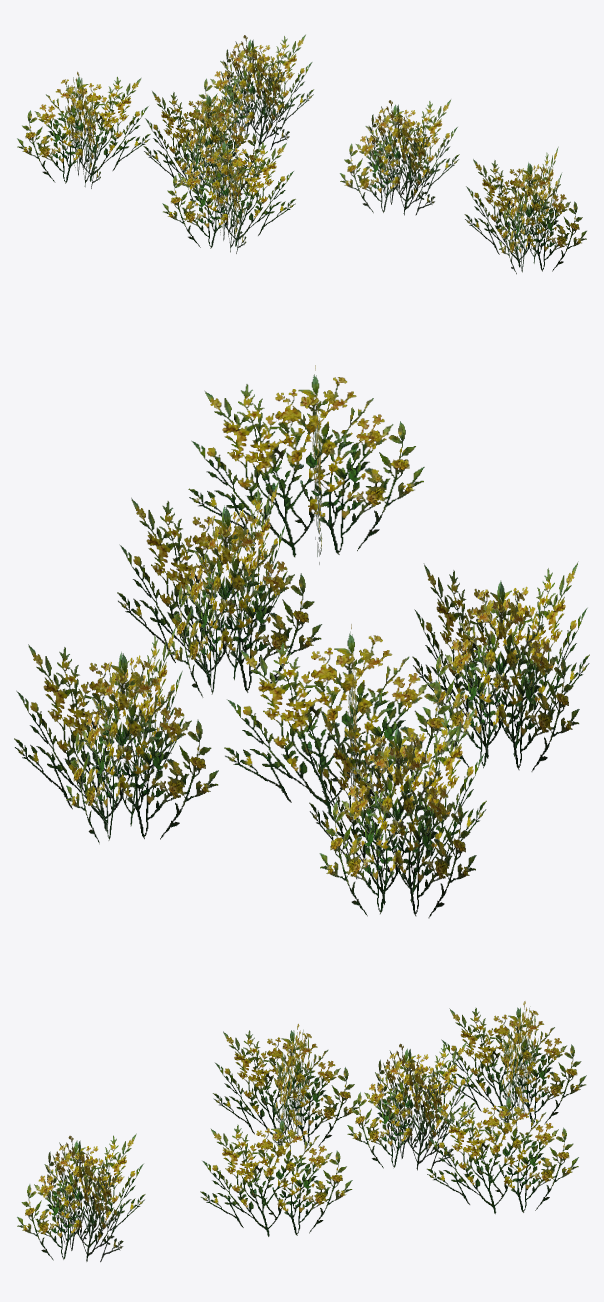
The model's file is Strauch_01.obj.
3 views of the same model, one above another, from view 1: azimuth 30°, elevation 25°; view 2: azimuth 150°, elevation 25°; view 3: azimuth 270°, elevation 25° (orthographic). The views are drawn at different scales.
Visible parts, largest first — view 1: Mesh5 Group7 Group2 Group1 Model, Mesh4 Group6 Group2 Group1 Model, Mesh11 Group13 Group1 Model, Mesh1 Group3 Group2 Group1 Model, Mesh3 Group5 Group2 Group1 Model, Mesh9 Group11 Group2 Group1 Model, Mesh7 Group9 Group2 Group1 Model, Mesh6 Group8 Group2 Group1 Model, Mesh12 Group14 Group1 Model, Mesh8 Group10 Group2 Group1 Model, Mesh10 Group12 Group2 Group1 Model, Mesh2 Group4 Group2 Group1 Model; view 2: Mesh12 Group14 Group1 Model, Mesh8 Group10 Group2 Group1 Model, Mesh3 Group5 Group2 Group1 Model, Mesh1 Group3 Group2 Group1 Model, Mesh5 Group7 Group2 Group1 Model, Mesh4 Group6 Group2 Group1 Model, Mesh10 Group12 Group2 Group1 Model, Mesh2 Group4 Group2 Group1 Model, Mesh6 Group8 Group2 Group1 Model, Mesh7 Group9 Group2 Group1 Model; view 3: Mesh6 Group8 Group2 Group1 Model, Mesh7 Group9 Group2 Group1 Model, Mesh2 Group4 Group2 Group1 Model, Mesh10 Group12 Group2 Group1 Model, Mesh11 Group13 Group1 Model, Mesh9 Group11 Group2 Group1 Model, Mesh12 Group14 Group1 Model, Mesh8 Group10 Group2 Group1 Model, Mesh4 Group6 Group2 Group1 Model, Mesh5 Group7 Group2 Group1 Model.
Part boxes in pixels (box(x1,y1,x2,y2)): Mesh5 Group7 Group2 Group1 Model: box(17, 76, 150, 183); Mesh4 Group6 Group2 Group1 Model: box(162, 141, 295, 248); Mesh11 Group13 Group1 Model: box(464, 159, 586, 271); Mesh1 Group3 Group2 Group1 Model: box(339, 99, 459, 213); Mesh3 Group5 Group2 Group1 Model: box(194, 34, 314, 148); Mesh9 Group11 Group2 Group1 Model: box(143, 91, 266, 202); Mesh7 Group9 Group2 Group1 Model: box(366, 100, 435, 215); Mesh6 Group8 Group2 Group1 Model: box(221, 35, 289, 150); Mesh12 Group14 Group1 Model: box(498, 146, 562, 274); Mesh8 Group10 Group2 Group1 Model: box(177, 78, 241, 205); Mesh10 Group12 Group2 Group1 Model: box(65, 71, 100, 188); Mesh2 Group4 Group2 Group1 Model: box(210, 137, 246, 253); Mesh12 Group14 Group1 Model: box(188, 375, 424, 557); Mesh8 Group10 Group2 Group1 Model: box(224, 633, 459, 815); Mesh3 Group5 Group2 Group1 Model: box(14, 644, 218, 839); Mesh1 Group3 Group2 Group1 Model: box(117, 497, 322, 693); Mesh5 Group7 Group2 Group1 Model: box(309, 709, 476, 918); Mesh4 Group6 Group2 Group1 Model: box(412, 563, 579, 771); Mesh10 Group12 Group2 Group1 Model: box(319, 707, 486, 916); Mesh2 Group4 Group2 Group1 Model: box(422, 561, 589, 768); Mesh6 Group8 Group2 Group1 Model: box(66, 625, 184, 844); Mesh7 Group9 Group2 Group1 Model: box(169, 479, 287, 697); Mesh6 Group8 Group2 Group1 Model: box(426, 1096, 578, 1214); Mesh7 Group9 Group2 Group1 Model: box(200, 1119, 352, 1236); Mesh2 Group4 Group2 Group1 Model: box(212, 1030, 359, 1147); Mesh10 Group12 Group2 Group1 Model: box(439, 1007, 586, 1125); Mesh11 Group13 Group1 Model: box(17, 1133, 145, 1260); Mesh9 Group11 Group2 Group1 Model: box(347, 1042, 475, 1168); Mesh12 Group14 Group1 Model: box(41, 1135, 123, 1262); Mesh8 Group10 Group2 Group1 Model: box(372, 1043, 453, 1170); Mesh4 Group6 Group2 Group1 Model: box(272, 1023, 311, 1149); Mesh5 Group7 Group2 Group1 Model: box(499, 1001, 538, 1126).
Bounding box in the file's own units: 288 × 82.75 × 363.
Materials: 1 (1 with a texture image).
